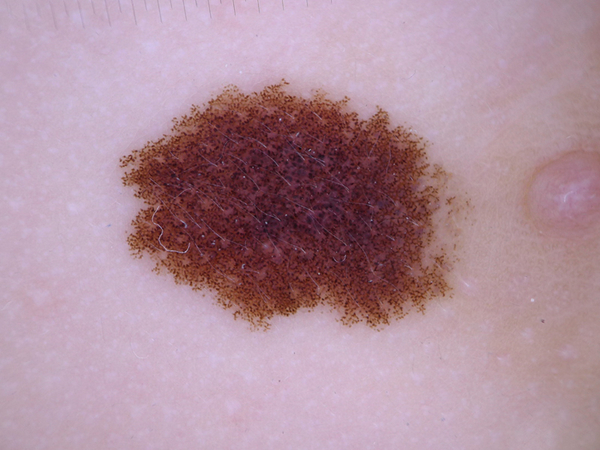Detected Lesion: (110, 80, 472, 339)
